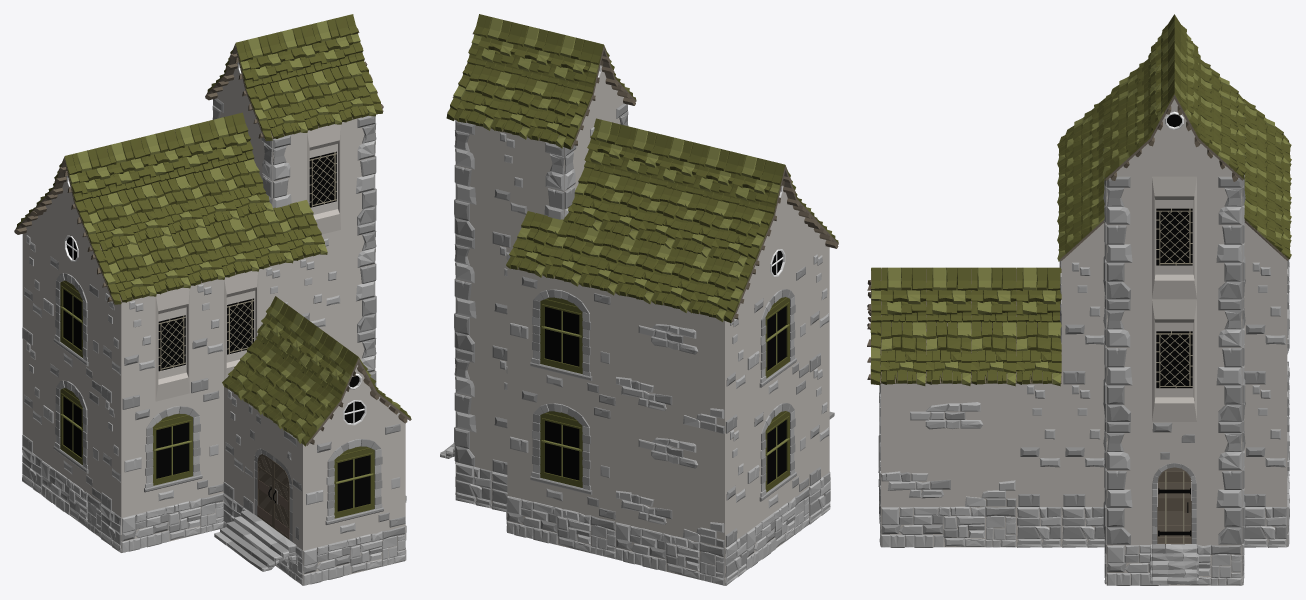
Rendered from HOUSE_5.fbx.
3 renders of one model, left to right at view 1: azimuth 30°, elevation 25°; view 2: azimuth 150°, elevation 25°; view 3: azimuth 270°, elevation 25°, orthographic. The views are drawn at different scales.
Visible parts, largest first — view 1: WINDOW_05_12, WINDOW_05_13, WINDOW_05_14, WINDOW_05_15, DOOR_02_2, WALL_07_3, WALL_06_8, FOUNDATION_03_2, FOUNDATION_03_5, WALL_07_4, WINDOW_04_2, WALL_06_9 (+61 smaller); view 2: WINDOW_05_17, WINDOW_05_16, WALL_03_3, WALL_03_4, WINDOW_05_14, WINDOW_05_15, WALL_05_8, WALL_05_7, FOUNDATION_03_8, FOUNDATION_03_7, WALL_05_6, WALL_06_18 (+46 smaller); view 3: WALL_03_2, FOUNDATION_03_3, WALL_06_3, WALL_05_5, WALL_07_5, WALL_05_4, WALL_07_6, WALL_05_2, WALL_07_7, WINDOW_04_5, WINDOW_04_6, DOOR_01_2 (+49 smaller).
Part boxes in pixels (x1,y1,x2,y2): WINDOW_05_12: (121, 385, 223, 517); WINDOW_05_13: (303, 419, 405, 549); WINDOW_05_14: (42, 352, 101, 502); WINDOW_05_15: (42, 245, 101, 394); DOOR_02_2: (243, 401, 304, 549); WALL_07_3: (341, 221, 375, 336); WALL_06_8: (121, 296, 155, 409); FOUNDATION_03_2: (303, 525, 405, 585); FOUNDATION_03_5: (121, 492, 223, 552); WALL_07_4: (341, 115, 375, 229); WINDOW_04_2: (155, 287, 189, 401); WALL_06_9: (190, 279, 223, 393); WINDOW_05_17: (507, 381, 616, 521); WINDOW_05_16: (507, 267, 616, 407); WALL_03_3: (616, 407, 725, 547); WALL_03_4: (616, 294, 725, 433); WINDOW_05_14: (746, 373, 808, 532); WINDOW_05_15: (746, 259, 808, 418); WALL_05_8: (455, 348, 491, 470); WALL_05_7: (455, 234, 491, 356); FOUNDATION_03_8: (507, 495, 616, 559); FOUNDATION_03_7: (616, 521, 725, 585); WALL_05_6: (455, 120, 491, 242); WALL_06_18: (492, 129, 528, 247); WALL_03_2: (881, 383, 1016, 506); FOUNDATION_03_3: (881, 506, 1016, 547); WALL_06_3: (1016, 383, 1061, 506); WALL_05_5: (1106, 176, 1151, 299); WALL_07_5: (1197, 176, 1242, 299); WALL_05_4: (1106, 299, 1151, 421); WALL_07_6: (1197, 299, 1242, 421); WALL_05_2: (1106, 422, 1151, 544); WALL_07_7: (1197, 422, 1242, 544); WINDOW_04_5: (1152, 176, 1196, 299); WINDOW_04_6: (1152, 299, 1196, 421); DOOR_01_2: (1152, 422, 1196, 544).
Size of the model in its own units: 933 by 1214 by 941.
